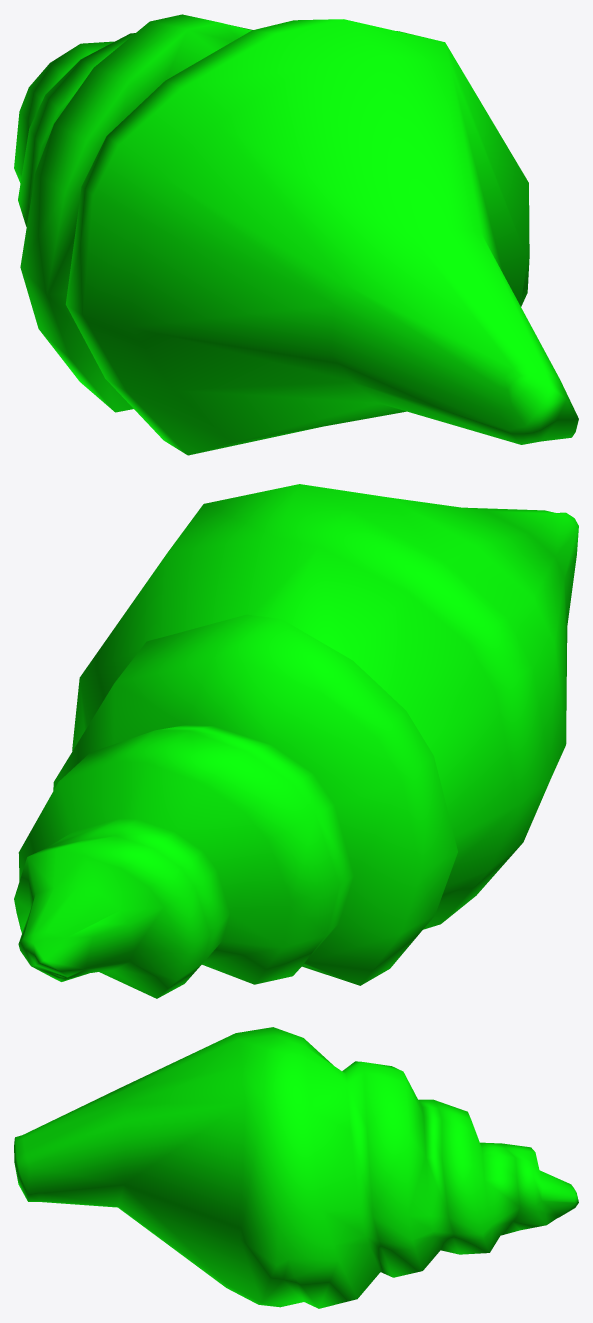
Rendered from Shell_7.fbx.
3 views of the same model, one above another, from view 1: azimuth 30°, elevation 25°; view 2: azimuth 150°, elevation 25°; view 3: azimuth 270°, elevation 25° (orthographic). The views are drawn at different scales.
Visible parts, largest first — view 1: Shell_7; view 2: Shell_7; view 3: Shell_7.
Part boxes in pixels (x1,y1,x2,y2): Shell_7: [14, 14, 578, 455]; Shell_7: [14, 484, 578, 998]; Shell_7: [14, 1027, 578, 1308].
Size of the model in its own units: 58.86 by 49.54 by 112.
